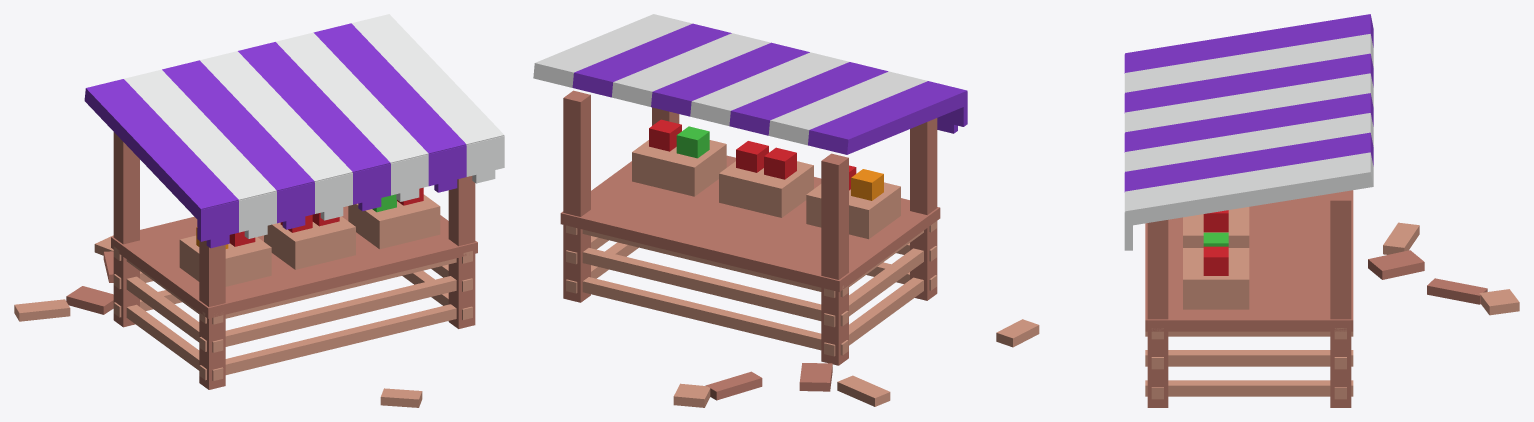
Rendered from MarketStallPurple.fbx.
The picture shows the model from 3 angles, left to right: view 1: azimuth 30°, elevation 25°; view 2: azimuth 150°, elevation 25°; view 3: azimuth 270°, elevation 25°; orthographic projection. The views are drawn at different scales.
Parts seen in each view (by area): view 1: StripePurple, White.004, WoodLight.007, Wood.010, Apple.005; view 2: Wood.010, WoodLight.007, StripePurple, White.004, Apple.005, LeafGreen.010, Pumpkin.001; view 3: Wood.010, White.004, StripePurple, WoodLight.007, Apple.005.
Boxes of the visible parts, x1,y1,x2,y2 form: StripePurple: (84,23,466,248); White.004: (124,14,504,238); WoodLight.007: (14,194,472,407); Wood.010: (66,132,477,389); Apple.005: (229,187,423,246); Wood.010: (560,90,940,400); WoodLight.007: (566,140,936,407); StripePurple: (572,23,967,154); White.004: (533,14,927,145); Apple.005: (649,119,856,190); LeafGreen.010: (676,126,709,158); Pumpkin.001: (851,169,883,200); Wood.010: (1145,190,1487,407); White.004: (1124,34,1373,250); StripePurple: (1124,14,1373,192); WoodLight.007: (996,207,1519,399); Apple.005: (1203,210,1228,275).
Size of the model in its own units: 10.59 by 6.52 by 12.59.
